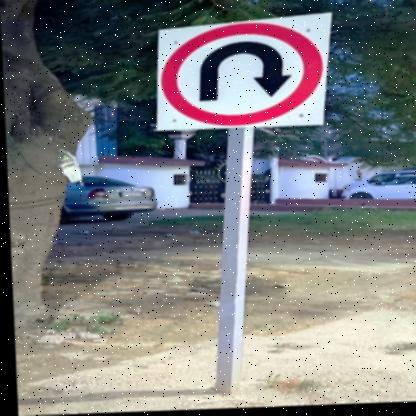U-turn: (152, 24, 329, 129)
